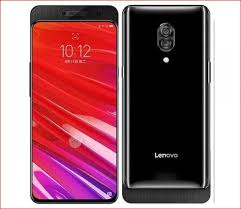lenovo: (26, 2, 119, 205), (122, 1, 215, 204)
